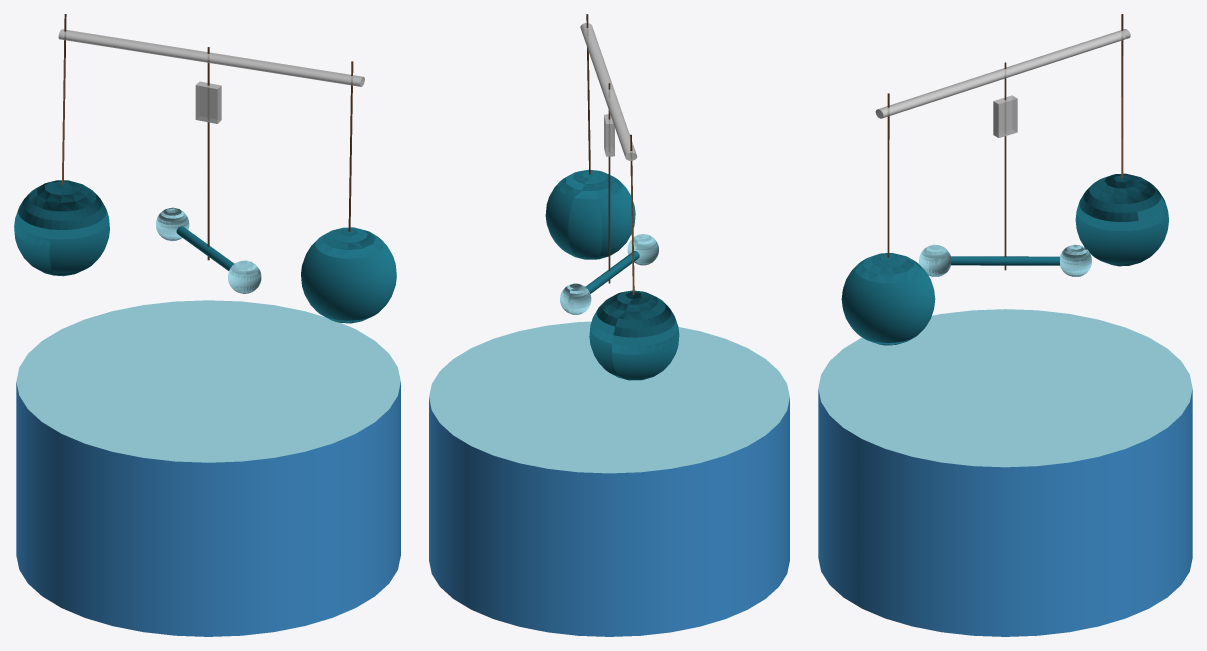
The picture shows the model from 3 angles, left to right: view 1: azimuth 30°, elevation 25°; view 2: azimuth 150°, elevation 25°; view 3: azimuth 270°, elevation 25°; orthographic projection. The views are drawn at different scales.
Parts seen in each view (by area): view 1: Cylinder001, Cylinder004, Box001; view 2: Cylinder001, Cylinder004, Box001; view 3: Cylinder001, Cylinder004, Box001.
Boxes of the visible parts, x1,y1,x2,y2 form: Cylinder001: [16, 300, 400, 636]; Cylinder004: [14, 14, 396, 323]; Box001: [156, 48, 261, 293]; Cylinder001: [429, 321, 789, 636]; Cylinder004: [545, 14, 679, 380]; Box001: [560, 84, 658, 314]; Cylinder001: [818, 309, 1192, 636]; Cylinder004: [841, 14, 1168, 345]; Box001: [919, 63, 1091, 276].
Size of the model in its own units: 800 by 1188 by 800.
